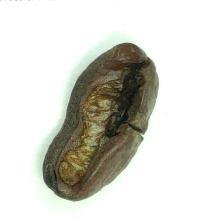NG: (72, 65, 147, 143), (43, 144, 97, 200)
